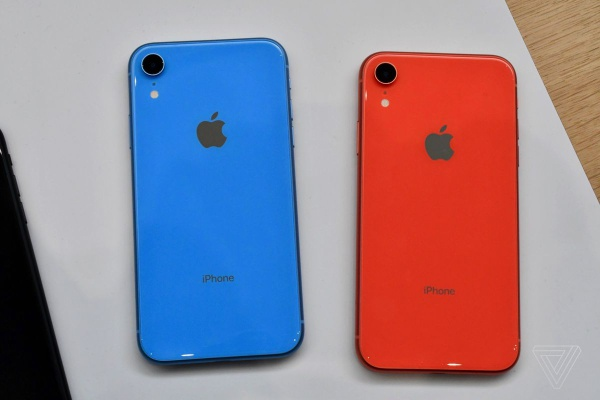apple: (412, 113, 461, 174), (184, 106, 236, 160)
